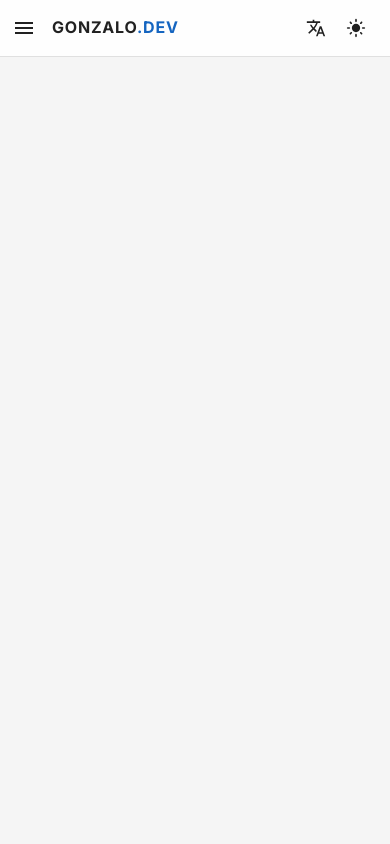
Test: Navbar › marks the current page in the mobile menu at /projects
The width and height of the screenshot is (390, 844).
Step 1. Click the button named "Open menu" → coordinates (24, 28), box [4,8,44,48]
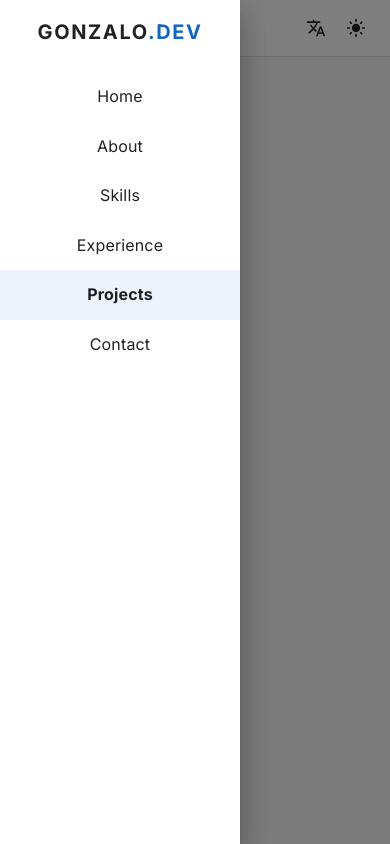
Expected: the button named "Open menu" is expanded, [4,8,44,48]
Expected: the element showing "GONZALO.DEV" is shown, [38,20,202,44]
Expected: the link "Projects" is shown, [0,270,240,320]
